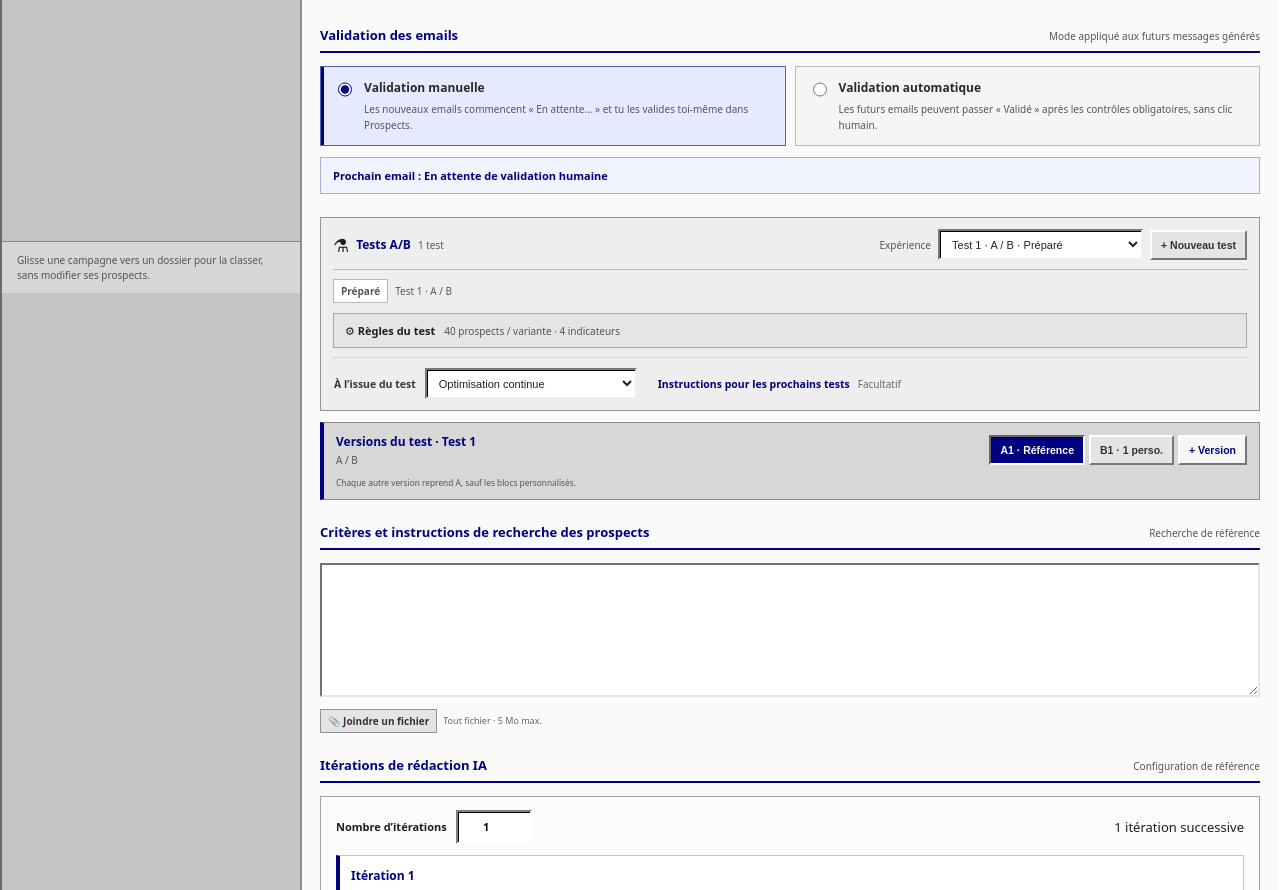
Test case: CampaignsView V53 › switches to B and exposes its persisted custom blocks
(page scrolled)
Click the button "B1 · 1 perso.". click: {"x": 1132, "y": 450}
box: [1089,435,1174,465]
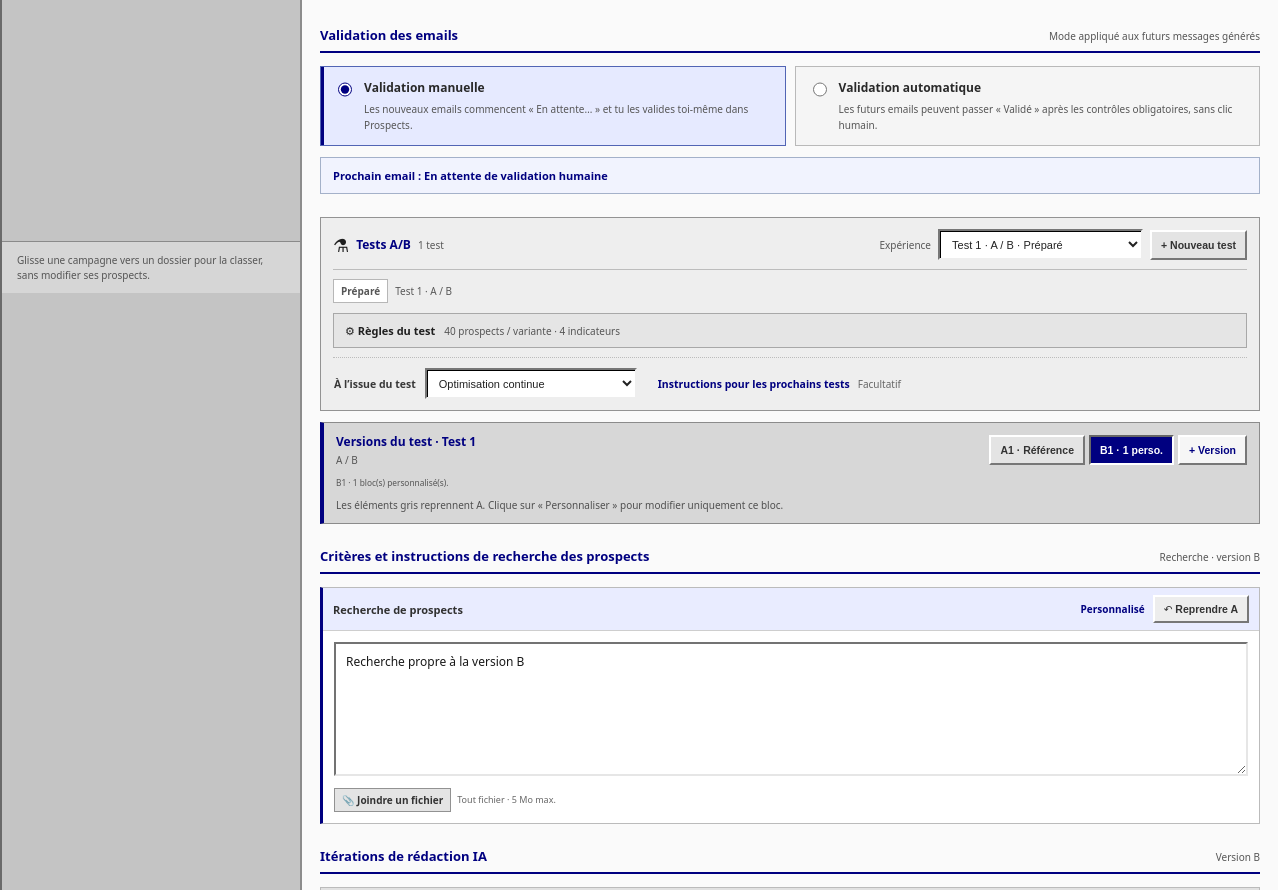
Expected: the text "Recherche · version B" is shown, [1160,550,1260,564]
Expected: the text box showing "Recherche propre à la version B" is shown, [334,642,1248,776]
Expected: the button "↶ Reprendre A" is shown, [1153,595,1249,623]
